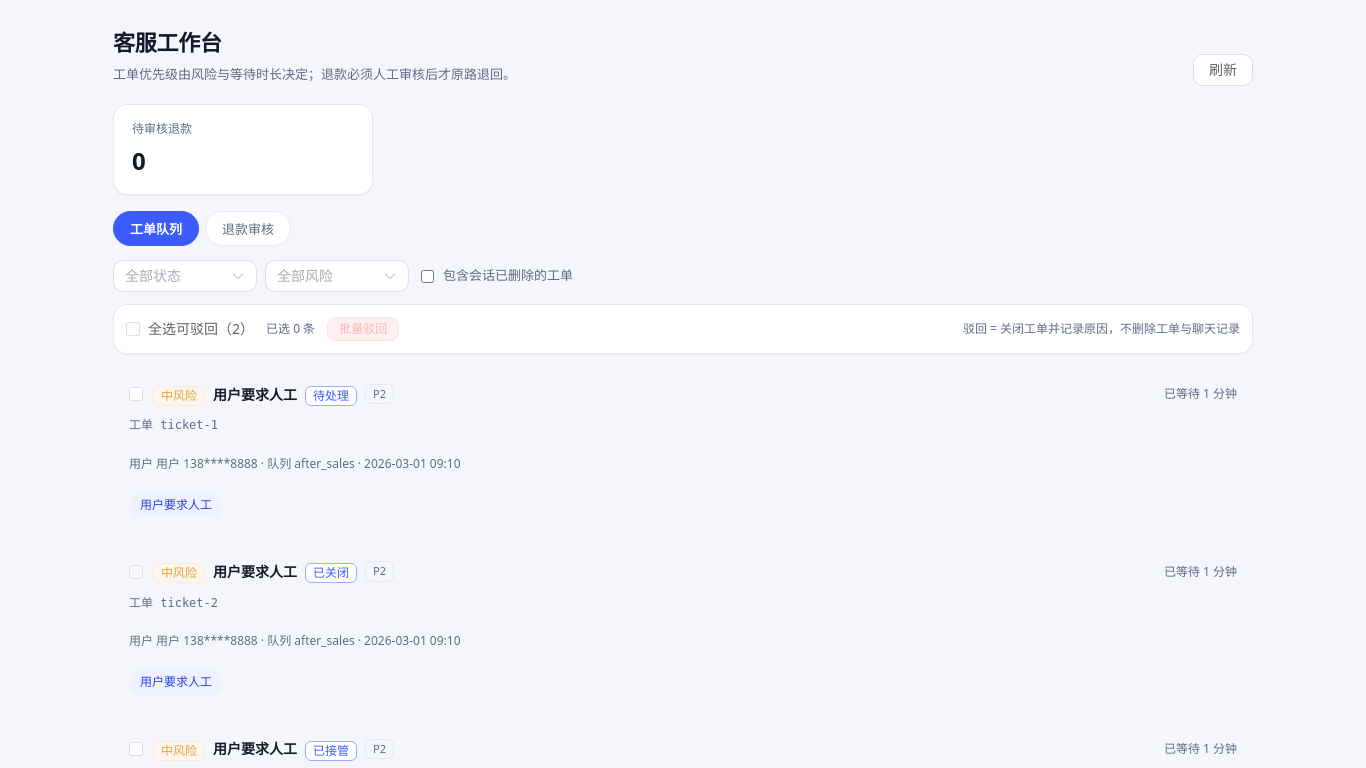
Test case: SupportTicketsView（工单队列） › 全选只覆盖可驳回的工单
Click the 1st checkbox labelled "全选可驳回（2）" at (190, 329), box [126,319,254,338]
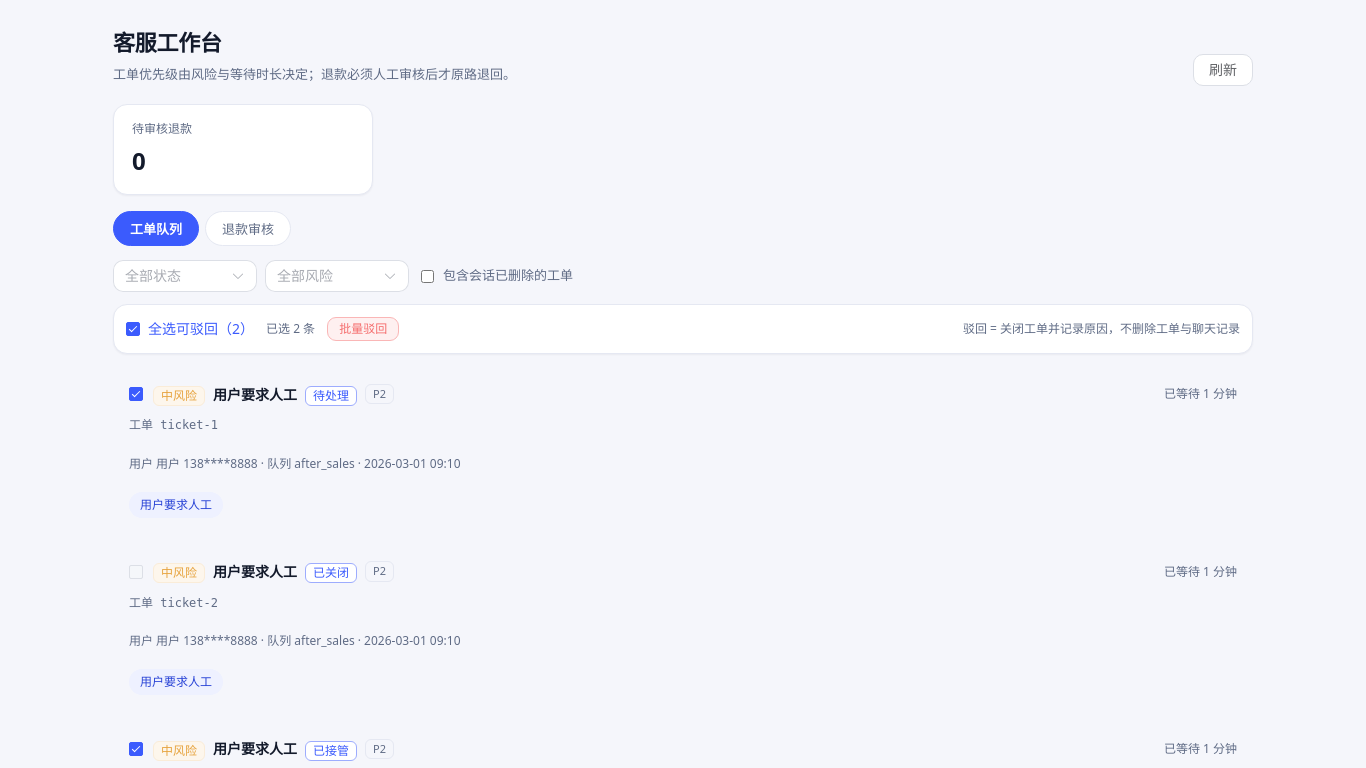
Expected: the text "已选 2 条" is shown, [266,319,315,339]
